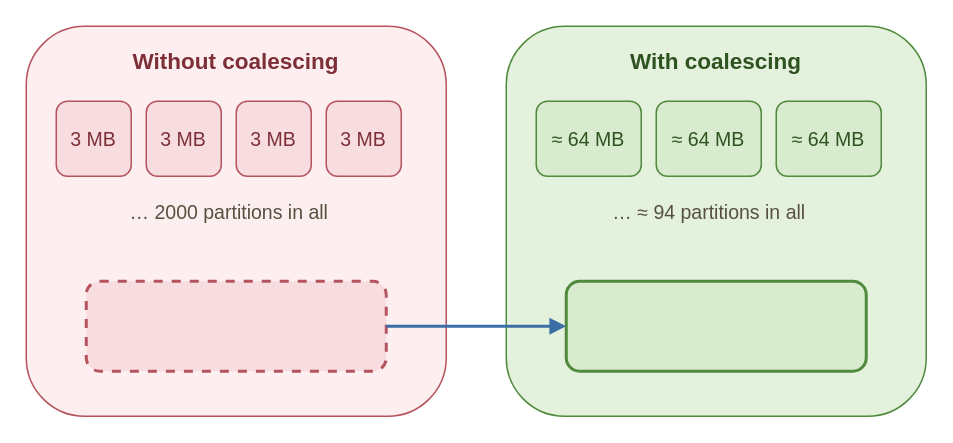
Some shapes in this 953 by 443 pixel diagram are drawn without their labels. The centre of each missing label's shape, as x and y in pixels:
2000 tasks scheduling dominates: (235,325)
≈ 94 tasks each does real work: (715,325)
